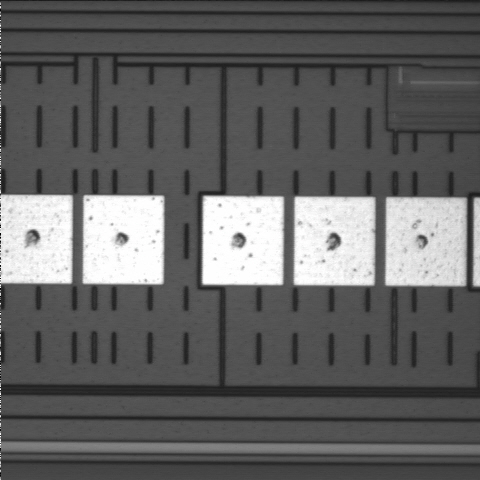pad: (202, 196, 284, 285), (83, 195, 164, 284), (385, 197, 466, 286), (294, 197, 375, 285)
